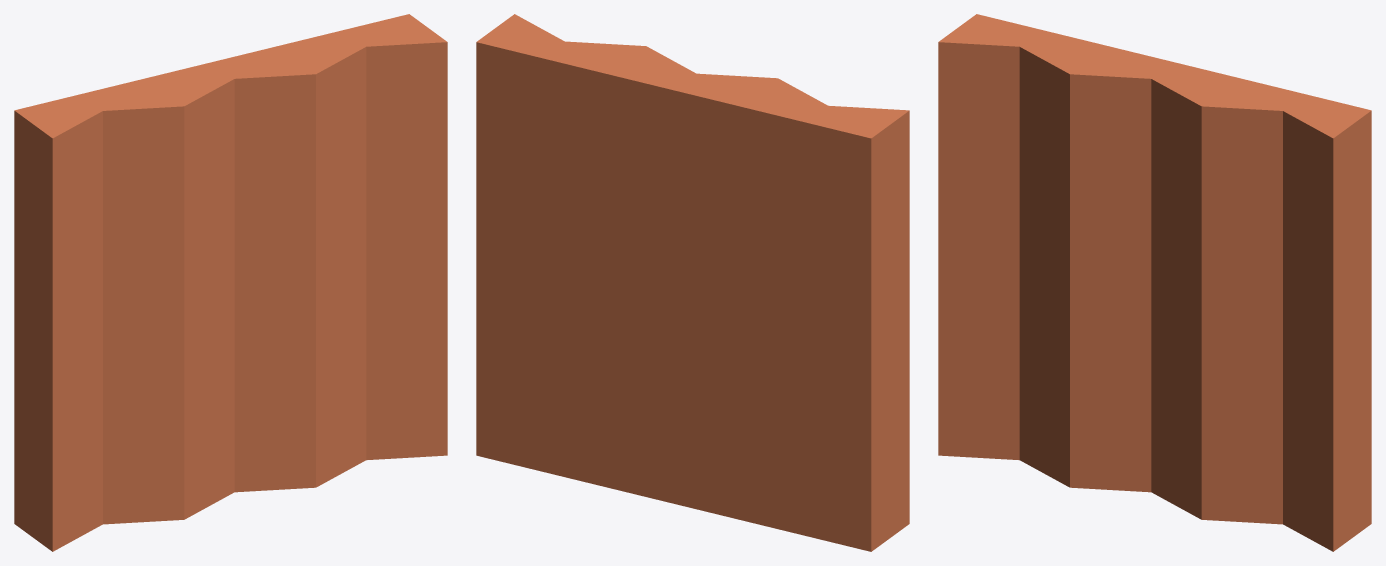
File: cliff_rock.dae
3 views of the same model, side by side, from view 1: azimuth 30°, elevation 25°; view 2: azimuth 150°, elevation 25°; view 3: azimuth 330°, elevation 25° (orthographic).
Visible parts, largest first — view 1: cliff_rock; view 2: cliff_rock; view 3: cliff_rock.
Part boxes in pixels (box(x1,y1,x2,y2)): cliff_rock: box(14, 14, 447, 551); cliff_rock: box(476, 14, 909, 551); cliff_rock: box(938, 14, 1371, 551).
Size of the model in its own units: 1 by 1 by 0.1685.
